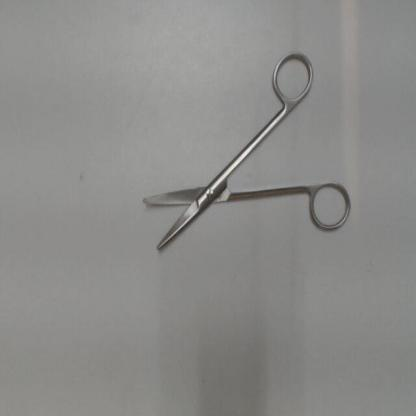Curved Mayo Scissors: (135, 43, 356, 260)
